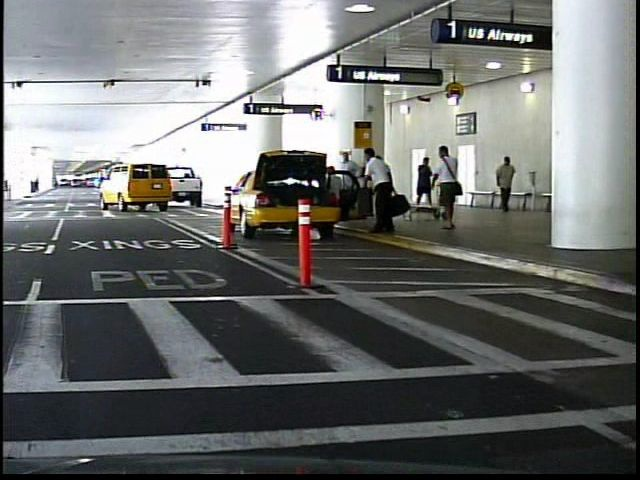person: (429, 146, 466, 233), (487, 151, 513, 213)
